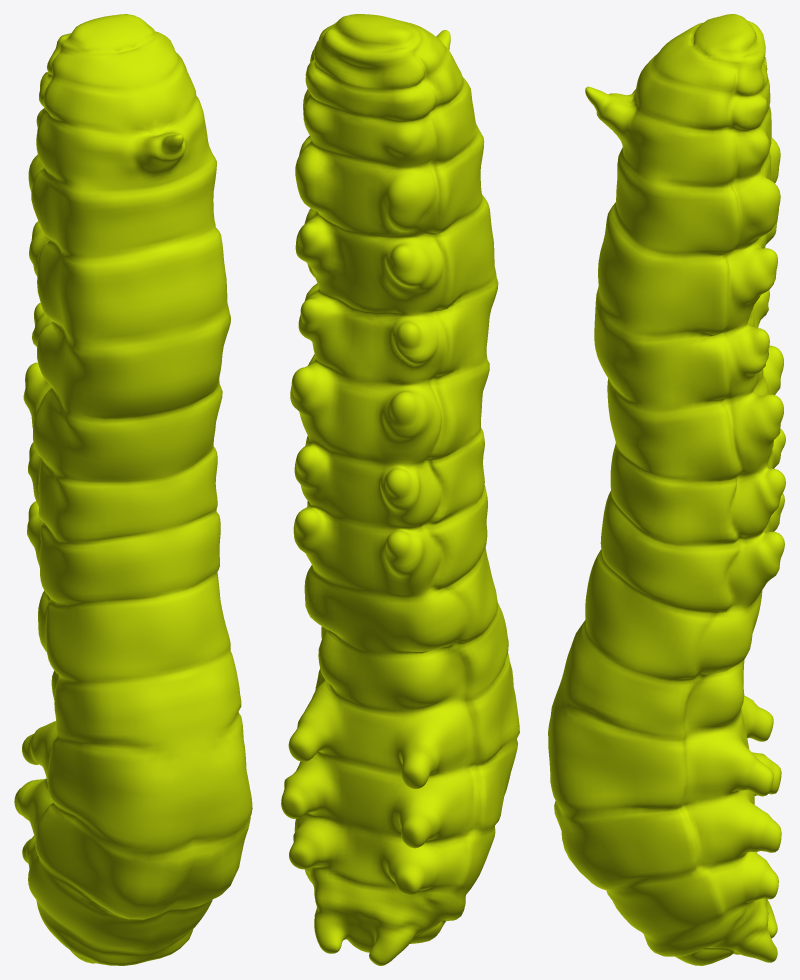
The model's file is worm.fbx.
The picture shows the model from 3 angles, left to right: view 1: azimuth 30°, elevation 25°; view 2: azimuth 150°, elevation 25°; view 3: azimuth 270°, elevation 25°; orthographic projection.
Visible parts, largest first — view 1: 15935_Silkworm_v1; view 2: 15935_Silkworm_v1; view 3: 15935_Silkworm_v1.
Boxes of the visible parts, bbox=[...] form: 15935_Silkworm_v1: bbox=[14, 14, 252, 965]; 15935_Silkworm_v1: bbox=[281, 14, 519, 965]; 15935_Silkworm_v1: bbox=[548, 14, 785, 965].
Bounding box in the file's own units: 143 × 696 × 162.
